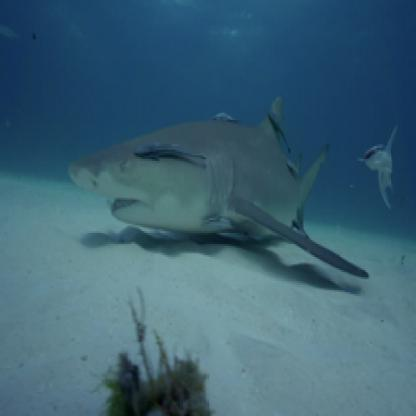Shark -Selachimorpha-: (69, 97, 370, 278)
